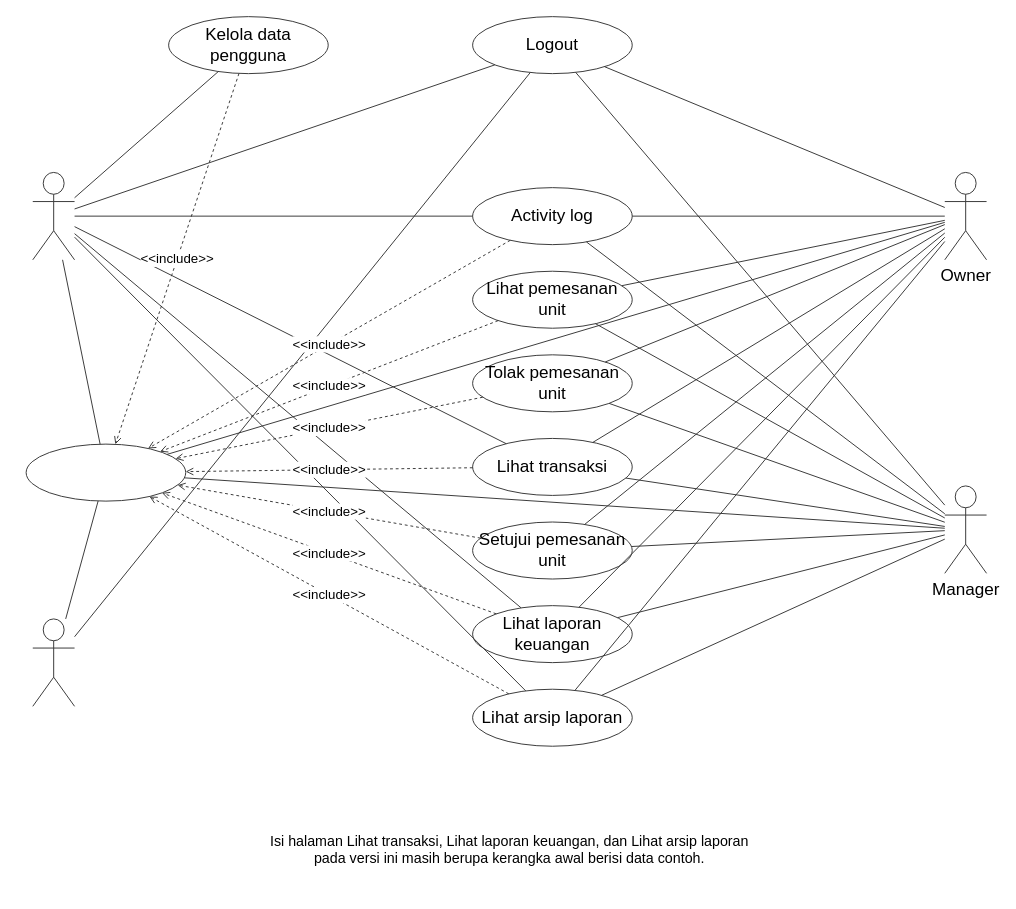
This 1016x909 diagram has some shape labels left out. The box of each missing label's shape, as (x1, y1, x2, y2) in pixels:
Admin: (32, 171, 75, 260)
Login: (25, 443, 186, 501)
Marketing: (32, 618, 75, 706)
